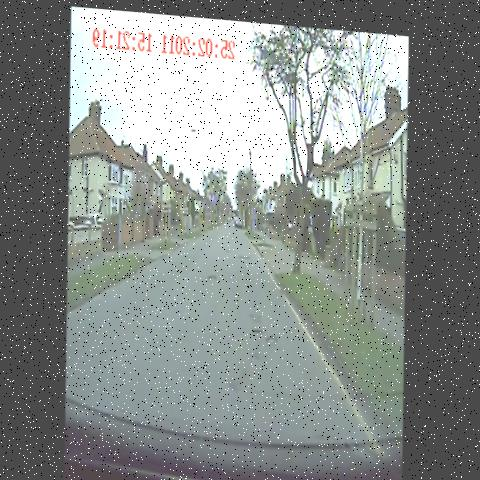pothole: (263, 316, 280, 349), (201, 257, 221, 285), (234, 241, 254, 264), (251, 316, 265, 337), (223, 239, 235, 252)
